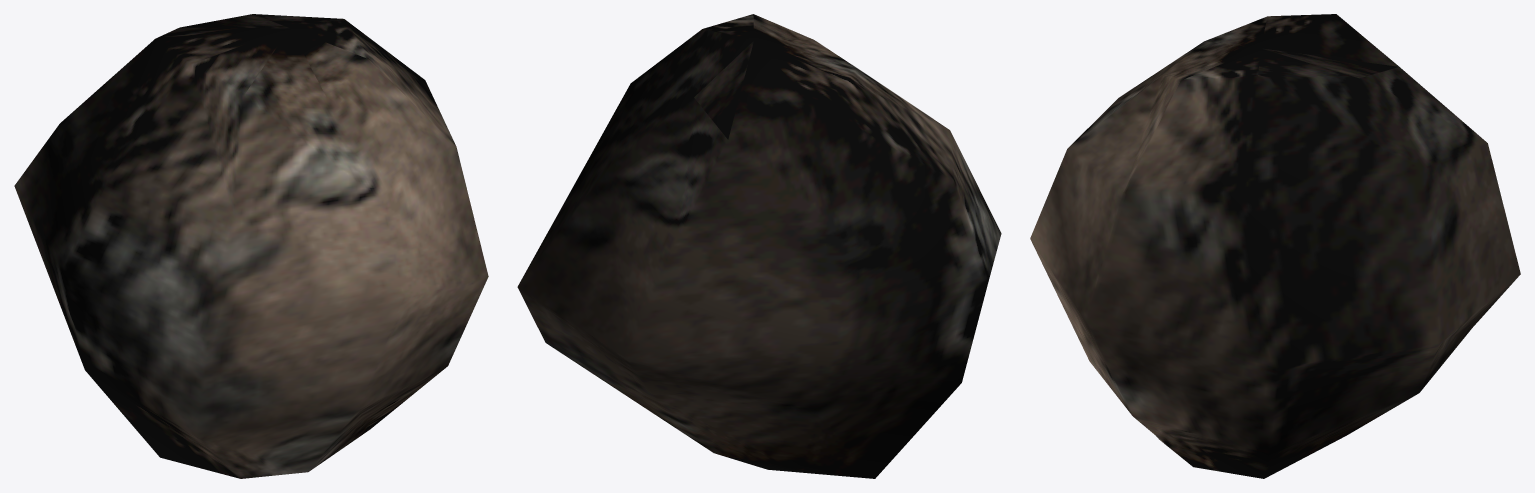
File: bgrnd05.obj
The picture shows the model from 3 angles, left to right: view 1: azimuth 30°, elevation 25°; view 2: azimuth 150°, elevation 25°; view 3: azimuth 270°, elevation 25°; orthographic projection.
Visible parts, largest first — view 1: frm-sphere2; view 2: frm-sphere2; view 3: frm-sphere2.
Part boxes in pixels (<box>): frm-sphere2: <box>14,14,488,478</box>; frm-sphere2: <box>517,14,1001,478</box>; frm-sphere2: <box>1030,14,1520,478</box>.
Bounding box in the file's own units: 9.89 × 9.7 × 10.07.
